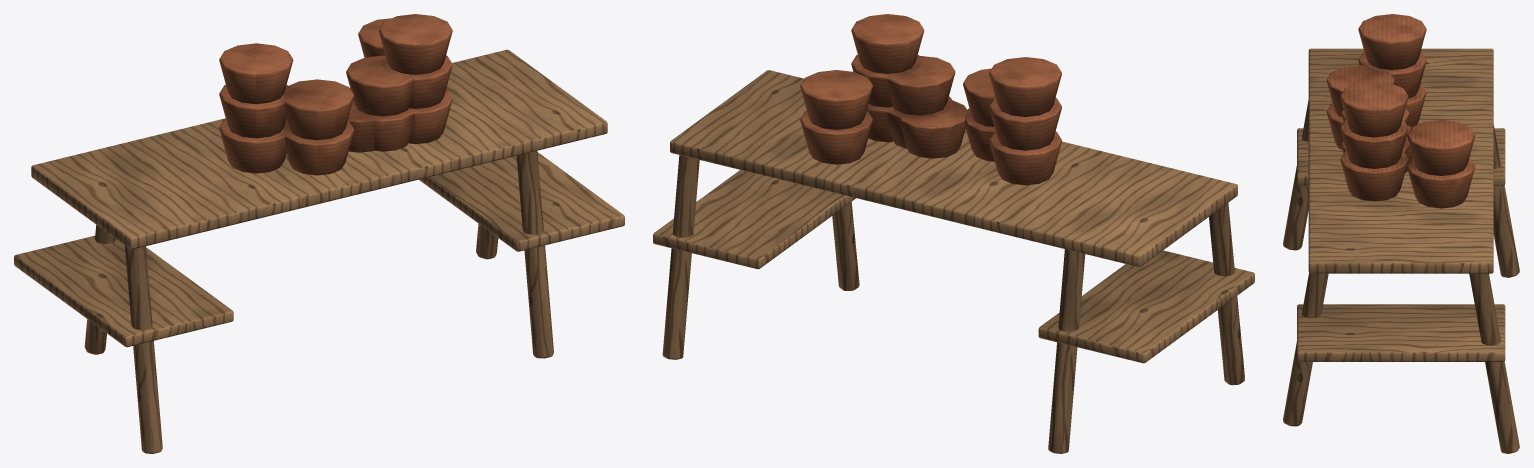
The model's file is trestle_basket.glb.
The picture shows the model from 3 angles, left to right: view 1: azimuth 30°, elevation 25°; view 2: azimuth 150°, elevation 25°; view 3: azimuth 270°, elevation 25°; orthographic projection. The views are drawn at different scales.
Parts seen in each view (by area): view 1: trestle_basket; view 2: trestle_basket; view 3: trestle_basket.
Part boxes in pixels (x1=…): trestle_basket: x1=14, y1=14, x2=624, y2=453; trestle_basket: x1=653, y1=14, x2=1254, y2=453; trestle_basket: x1=1283, y1=14, x2=1519, y2=453.
Size of the model in its own units: 2.3 by 1.39 by 1.02.
2 materials, 2 textured.
